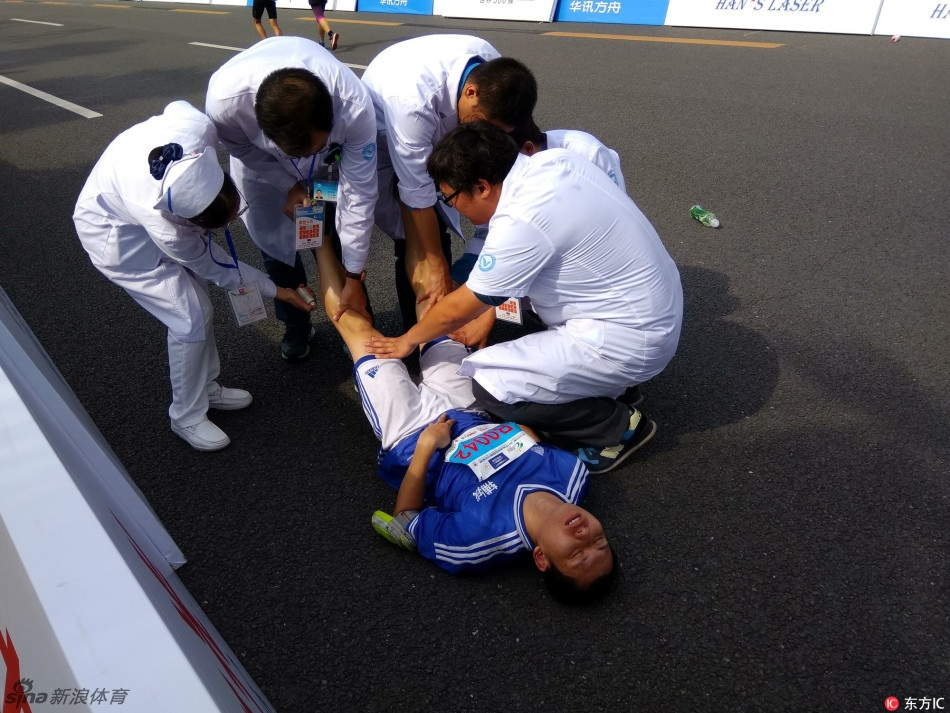falling: (322, 244, 629, 617)
